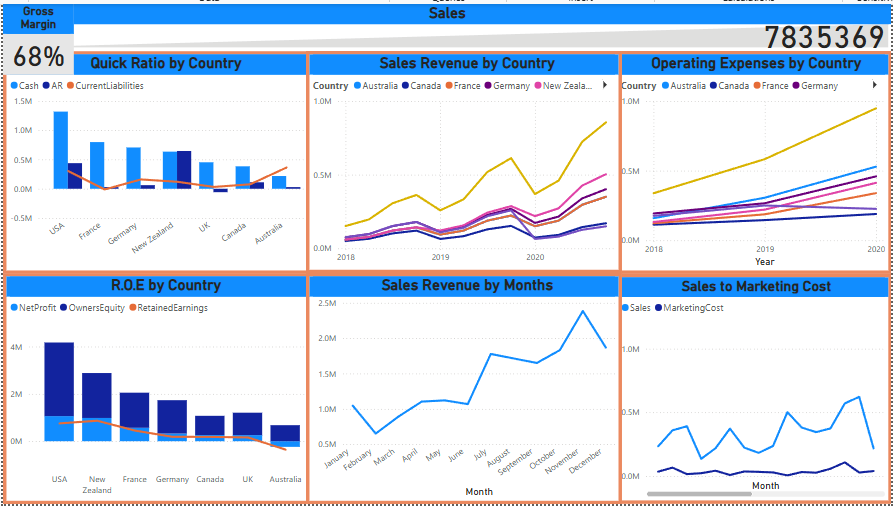

The page's visual inventory and layout, read from the dashboard file:
{"tool":"powerbi","page":{"name":"Insights 2","canvas":[1280,720],"ordinal":2},"visuals":[{"type":"lineStackedColumnComboChart","title":"R.O.E by Country","fields":{"Category":["tbl_territory.Country"],"Y":["tbl_GL.NetProfit","tbl_GL.OwnersEquity"],"Y2":["tbl_GL.RetainedEarnings"]},"box":[0,388,460.3,332.6],"z":0},{"type":"lineClusteredColumnComboChart","title":"Quick Ratio by Country","fields":{"Y":["tbl_GL.Cash","tbl_COA.AR"],"Y2":["tbl_GL.CurrentLiabilities"],"Category":["tbl_territory.Country"]},"box":[0,67.2,460.3,320.8],"z":1000},{"type":"kpi","title":"Sales ","fields":{"TrendLine":["tbl_Calendar.Date.Variation.Date Hierarchy.Year"],"Indicator":["Sum(tbl_GL.Amount)"]},"box":[0,0,1280.2,67.7],"z":2000},{"type":"lineChart","title":"Operating Expenses by Country","fields":{"Y":["tbl_GL.OperatingExpenses"],"Category":["tbl_Calendar.Year"],"Series":["tbl_territory.Country"]},"box":[879.8,67.7,400.3,321.1],"z":3000},{"type":"lineChart","title":"Sales to Marketing Cost","fields":{"Category":["tbl_Calendar.Date.Variation.Date Hierarchy.Year","tbl_Calendar.Month"],"Y":["tbl_GL.Sales","tbl_GL.MarketingCost"]},"box":[879.8,388.8,400.3,331.2],"z":4000},{"type":"lineChart","title":"Sales Revenue by Country","fields":{"Y":["Sum(tbl_GL.Amount)"],"Category":["tbl_Calendar.Date.Variation.Date Hierarchy.Year","tbl_Calendar.Date.Variation.Date Hierarchy.Quarter","tbl_Calendar.Date.Variation.Date Hierarchy.Month","tbl_Calendar.Date.Variation.Date Hierarchy.Day"],"Series":["tbl_territory.Country"]},"box":[436.3,67.7,455,319.7],"z":5000},{"type":"card","title":"Gross Margin","fields":{"Values":["tbl_GL.GrossMargin"]},"box":[0,0,102.5,102.5],"z":6000},{"type":"lineChart","title":"Sales Revenue by Months","fields":{"Category":["tbl_Calendar.Date.Variation.Date Hierarchy.Year","tbl_Calendar.Date.Variation.Date Hierarchy.Quarter","tbl_Calendar.Date.Variation.Date Hierarchy.Month"],"Y":["tbl_GL.Sales"]},"box":[436.3,387.4,455,332.6],"z":7000}]}

Visuals, with their boxes in screenshot pixels (x1, y1, x2, y2):
"R.O.E by Country" lineStackedColumnComboChart: [left=5, top=269, right=321, bottom=498]
"Quick Ratio by Country" lineClusteredColumnComboChart: [left=5, top=49, right=321, bottom=269]
"Sales " kpi: [left=5, top=2, right=885, bottom=49]
"Operating Expenses by Country" lineChart: [left=610, top=49, right=885, bottom=270]
"Sales to Marketing Cost" lineChart: [left=610, top=270, right=885, bottom=498]
"Sales Revenue by Country" lineChart: [left=305, top=49, right=618, bottom=269]
"Gross Margin" card: [left=5, top=2, right=75, bottom=73]
"Sales Revenue by Months" lineChart: [left=305, top=269, right=618, bottom=498]
